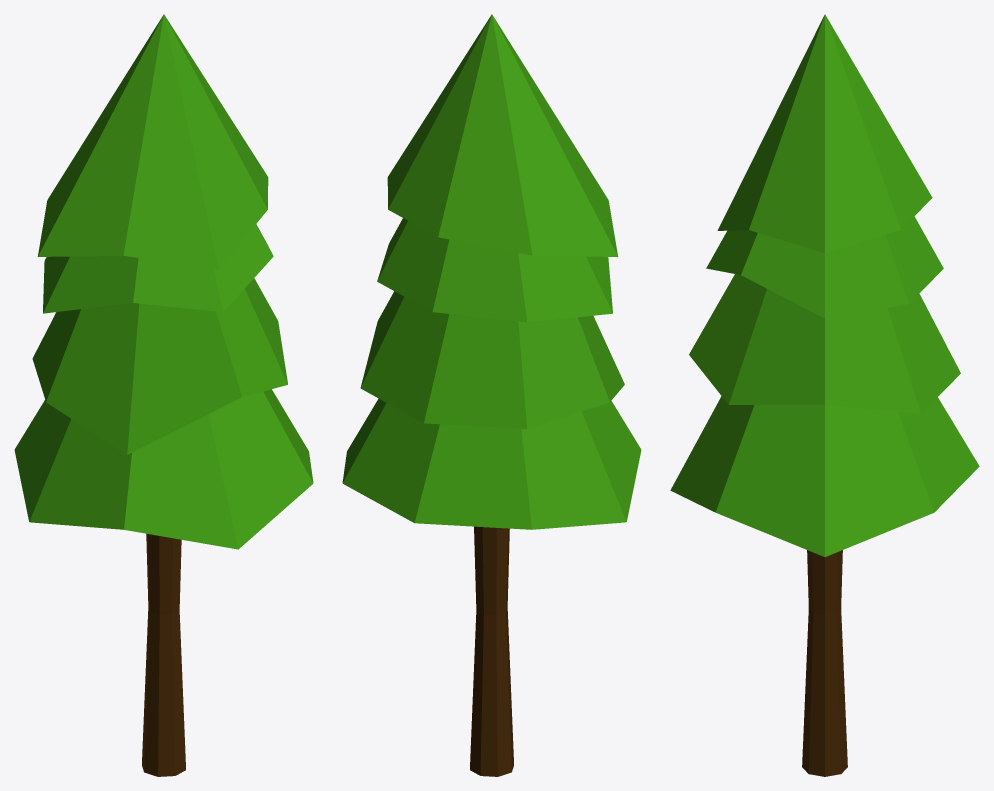
Rendered from tree.fbx.
3 views of the same model, side by side, from view 1: azimuth 30°, elevation 25°; view 2: azimuth 150°, elevation 25°; view 3: azimuth 270°, elevation 25° (orthographic).
Visible parts, largest first — view 1: Agac2; view 2: Agac2; view 3: Agac2.
Part boxes in pixels (left/top/right/bottom): Agac2: left=14, top=14, right=313, bottom=776; Agac2: left=342, top=14, right=641, bottom=776; Agac2: left=670, top=14, right=979, bottom=776.
Bounding box in the file's own units: 116 × 299 × 111.
